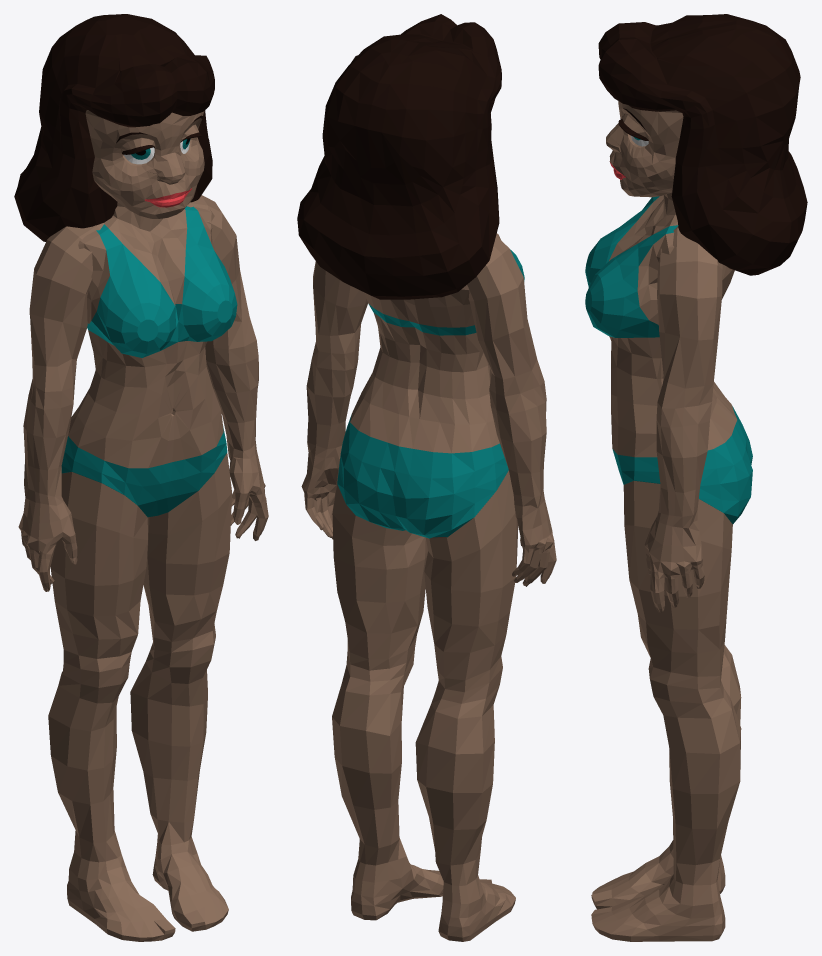
The model's file is babem.obj.
3 renders of one model, left to right at view 1: azimuth 30°, elevation 25°; view 2: azimuth 150°, elevation 25°; view 3: azimuth 270°, elevation 25°, orthographic. The views are drawn at different scales.
Visible parts, largest first — view 1: legr, legl, hair, body, suit, armr, arml, facial; view 2: hair, legr, legl, body, armr, suit, arml; view 3: hair, legl, arml, suit, body, facial, legr.
Part boxes in pixels (bbox=[...]): legr: bbox=[48, 472, 175, 941]; legl: bbox=[130, 453, 231, 931]; hair: bbox=[14, 14, 214, 241]; body: bbox=[68, 202, 223, 468]; suit: bbox=[61, 206, 237, 517]; armr: bbox=[18, 222, 104, 591]; arml: bbox=[187, 195, 268, 540]; facial: bbox=[85, 110, 204, 218]; hair: bbox=[297, 14, 501, 299]; legr: bbox=[415, 470, 518, 941]; legl: bbox=[332, 458, 443, 920]; body: bbox=[350, 233, 500, 453]; armr: bbox=[467, 235, 556, 586]; suit: bbox=[337, 249, 524, 538]; arml: bbox=[301, 261, 367, 539]; hair: bbox=[598, 14, 807, 275]; legl: bbox=[591, 481, 741, 941]; arml: bbox=[644, 226, 722, 612]; suit: bbox=[585, 196, 752, 524]; body: bbox=[609, 192, 737, 457]; facial: bbox=[606, 101, 683, 197]; legr: bbox=[591, 645, 741, 909].
Size of the model in its own units: 7.96 by 27.66 by 6.25.
